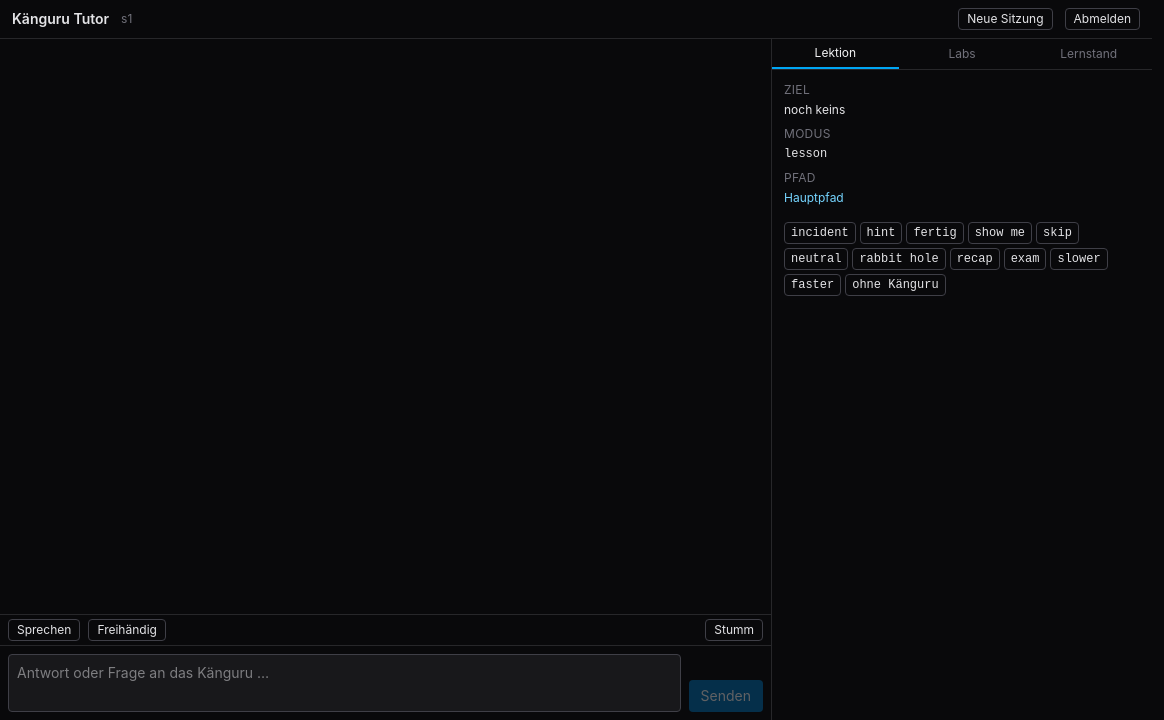
signed in: creates a session, streams a turn and renders it with sources
In the text box labelled "Antwort oder Frage an das Känguru …": {"x": 344, "y": 683} [8,654,681,712], type "Hallo"
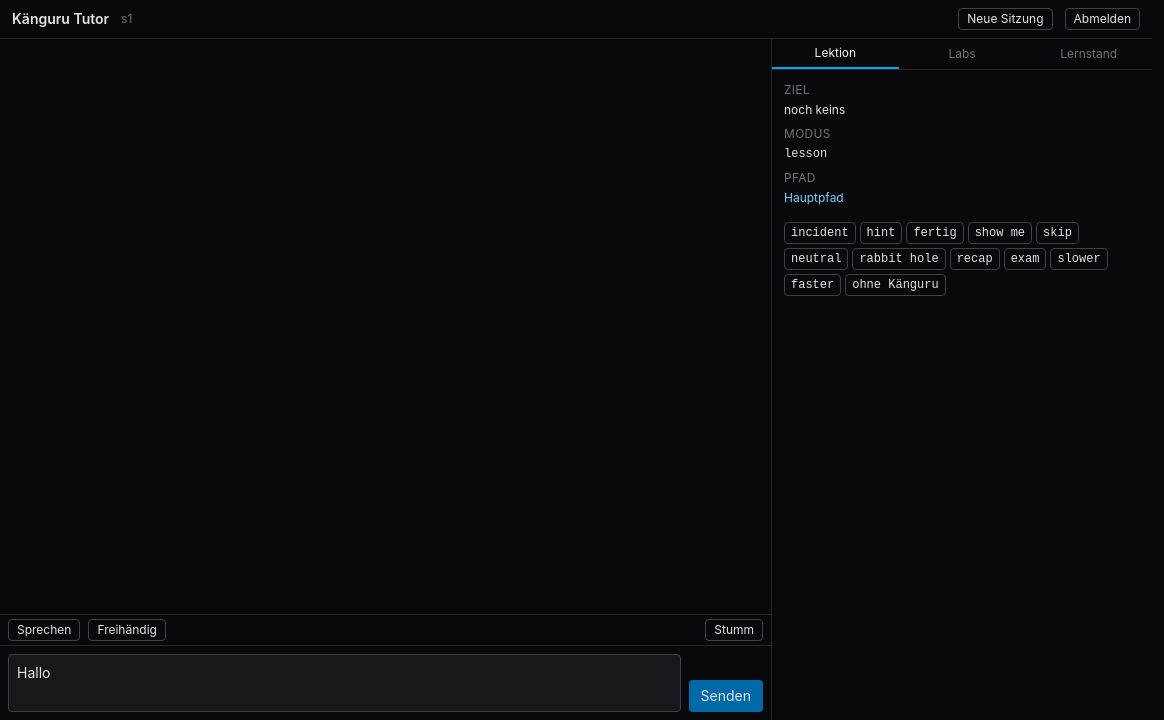
Click the button "Senden": {"x": 726, "y": 696} [689,680,763,712]
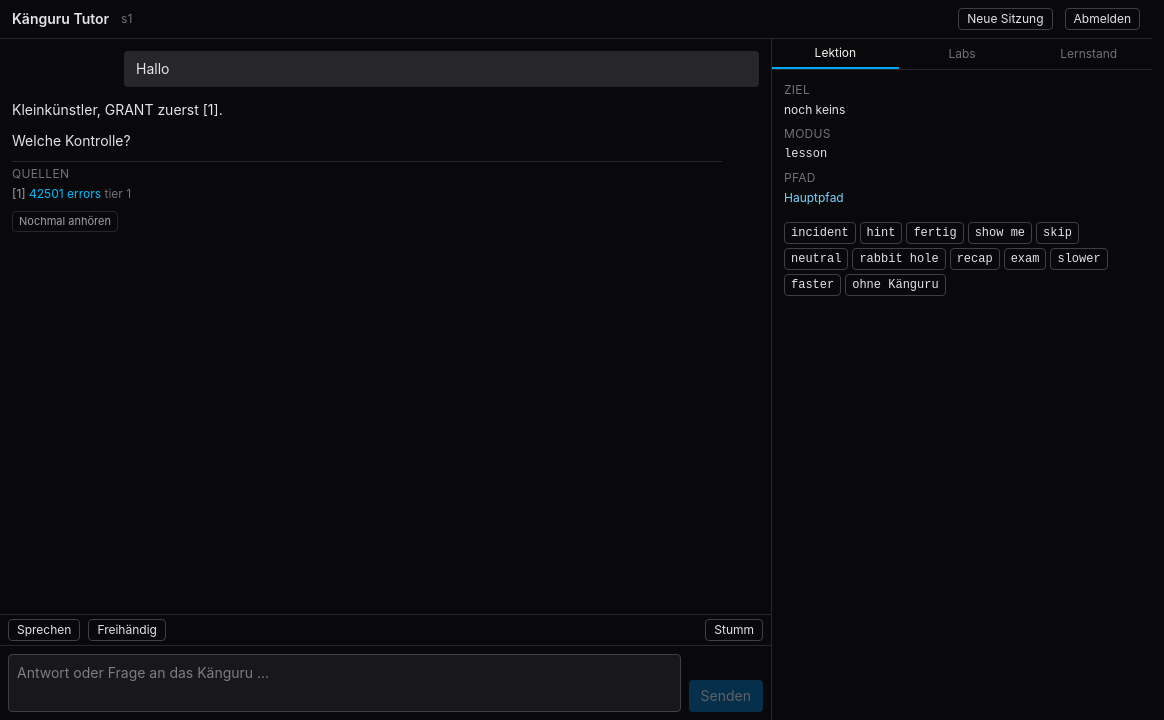
Now the link "42501 errors" is shown, box [29,186,101,200]
Now the text "Hallo" is shown, box [124,51,759,87]
Now the text "Kleinkünstler, GRANT zuerst [1]." is shown, box [12,101,223,118]
